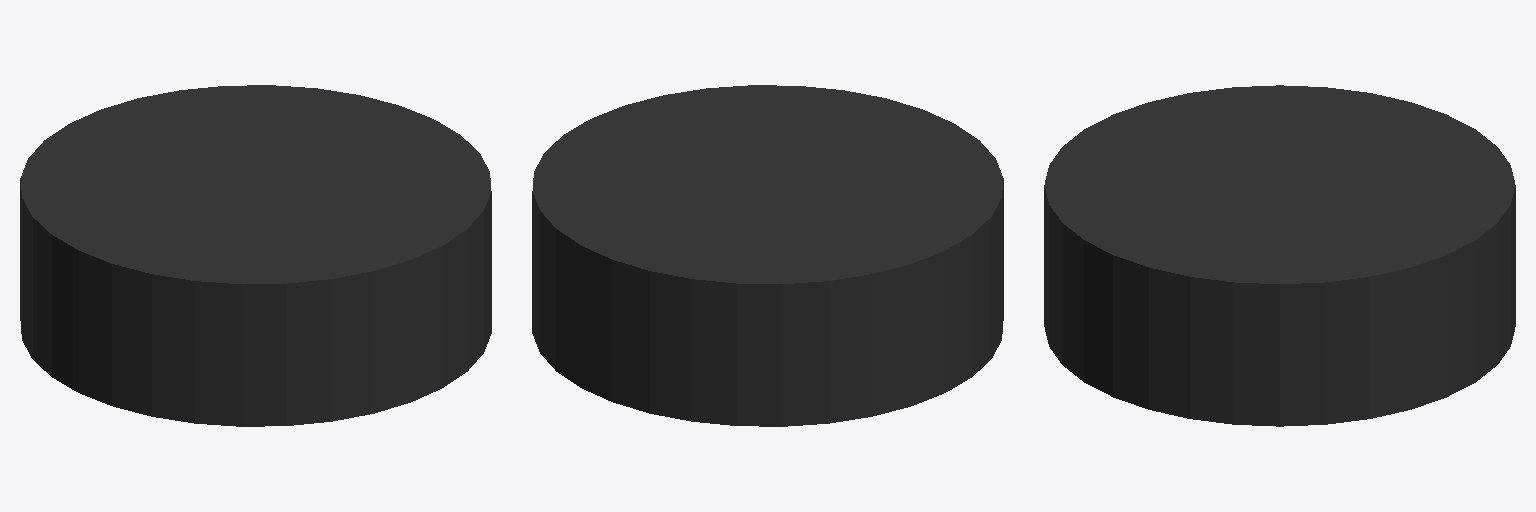
The robot description file, URDF, robot "car_0":
<?xml version="1.0"?>
<robot name="car_0" xmlns:xacro="http://www.ros.org/wiki/xacro">
  <material name="dark_gray">
    <color rgba="0.25 0.25 0.25 1.0"/>
  </material>

  <material name="body_visible_gray">
    <color rgba="0.75 0.75 0.75 1.0"/>
  </material>

  <link name="base_link">
    <inertial>
      <origin xyz="0 0 0.20" rpy="0 0 0"/>
      <mass value="45.0"/>
      <inertia ixx="2.3" ixy="0.0" ixz="0.0" iyy="4.2" iyz="0.0" izz="5.6"/>
    </inertial>
    <visual>
      <!-- NEOS is exported in millimeter-like units; rescale and place mesh so body visually sits on ground. -->
      <origin xyz="0 0 -0.07" rpy="1.5708 0 1.5708"/>
      <geometry>
        <!-- Keep the original Ackermann mesh and native dimensions. -->
        <mesh filename="file:///home/z/workspace_zyz/seb_clean/src/simulator/fake_ugv/meshes/NEOS.dae" scale="0.001 0.001 0.001"/>
      </geometry>
    </visual>
    <collision>
      <origin xyz="0 0 0.32" rpy="0 0 0"/>
      <geometry>
        <box size="0.92 0.62 0.22"/>
      </geometry>
    </collision>
  </link>

  <link name="rear_left_wheel">
    <inertial>
      <origin xyz="0 0 0" rpy="0 0 0"/>
      <mass value="2.0"/>
      <inertia ixx="0.03" ixy="0.0" ixz="0.0" iyy="0.03" iyz="0.0" izz="0.05"/>
    </inertial>
    <collision>
      <origin xyz="0 0 0" rpy="1.5708 0 0"/>
      <geometry>
        <cylinder radius="0.16" length="0.08"/>
      </geometry>
    </collision>
  </link>

  <link name="rear_right_wheel">
    <inertial>
      <origin xyz="0 0 0" rpy="0 0 0"/>
      <mass value="2.0"/>
      <inertia ixx="0.03" ixy="0.0" ixz="0.0" iyy="0.03" iyz="0.0" izz="0.05"/>
    </inertial>
    <collision>
      <origin xyz="0 0 0" rpy="1.5708 0 0"/>
      <geometry>
        <cylinder radius="0.16" length="0.08"/>
      </geometry>
    </collision>
  </link>

  <link name="front_left_steer_link">
    <inertial>
      <origin xyz="0 0 0" rpy="0 0 0"/>
      <mass value="0.3"/>
      <inertia ixx="0.001" ixy="0.0" ixz="0.0" iyy="0.001" iyz="0.0" izz="0.001"/>
    </inertial>
  </link>

  <link name="front_right_steer_link">
    <inertial>
      <origin xyz="0 0 0" rpy="0 0 0"/>
      <mass value="0.3"/>
      <inertia ixx="0.001" ixy="0.0" ixz="0.0" iyy="0.001" iyz="0.0" izz="0.001"/>
    </inertial>
  </link>

  <link name="front_left_wheel">
    <inertial>
      <origin xyz="0 0 0" rpy="0 0 0"/>
      <mass value="2.0"/>
      <inertia ixx="0.03" ixy="0.0" ixz="0.0" iyy="0.03" iyz="0.0" izz="0.05"/>
    </inertial>
    <collision>
      <origin xyz="0 0 0" rpy="1.5708 0 0"/>
      <geometry>
        <cylinder radius="0.16" length="0.08"/>
      </geometry>
    </collision>
  </link>

  <link name="front_right_wheel">
    <inertial>
      <origin xyz="0 0 0" rpy="0 0 0"/>
      <mass value="2.0"/>
      <inertia ixx="0.03" ixy="0.0" ixz="0.0" iyy="0.03" iyz="0.0" izz="0.05"/>
    </inertial>
    <collision>
      <origin xyz="0 0 0" rpy="1.5708 0 0"/>
      <geometry>
        <cylinder radius="0.16" length="0.08"/>
      </geometry>
    </collision>
  </link>

  <joint name="rear_left_wheel_joint" type="continuous">
    <parent link="base_link"/>
    <child link="rear_left_wheel"/>
    <origin xyz="-0.30 0.28 0.16" rpy="0 0 0"/>
    <axis xyz="0 1 0"/>
  </joint>

  <joint name="rear_right_wheel_joint" type="continuous">
    <parent link="base_link"/>
    <child link="rear_right_wheel"/>
    <origin xyz="-0.30 -0.28 0.16" rpy="0 0 0"/>
    <axis xyz="0 1 0"/>
  </joint>

  <joint name="front_left_steering_joint" type="revolute">
    <parent link="base_link"/>
    <child link="front_left_steer_link"/>
    <origin xyz="0.30 0.28 0.16" rpy="0 0 0"/>
    <axis xyz="0 0 1"/>
    <limit lower="-0.65" upper="0.65" effort="120.0" velocity="3.0"/>
    <dynamics damping="2.0"/>
  </joint>

  <joint name="front_right_steering_joint" type="revolute">
    <parent link="base_link"/>
    <child link="front_right_steer_link"/>
    <origin xyz="0.30 -0.28 0.16" rpy="0 0 0"/>
    <axis xyz="0 0 1"/>
    <limit lower="-0.65" upper="0.65" effort="120.0" velocity="3.0"/>
    <dynamics damping="2.0"/>
  </joint>

  <joint name="front_left_wheel_joint" type="continuous">
    <parent link="front_left_steer_link"/>
    <child link="front_left_wheel"/>
    <origin xyz="0 0 0" rpy="0 0 0"/>
    <axis xyz="0 1 0"/>
  </joint>

  <joint name="front_right_wheel_joint" type="continuous">
    <parent link="front_right_steer_link"/>
    <child link="front_right_wheel"/>
    <origin xyz="0 0 0" rpy="0 0 0"/>
    <axis xyz="0 1 0"/>
  </joint>

  <link name="steering_wheel_link">
    <inertial>
      <origin xyz="0 0 0" rpy="0 0 0"/>
      <mass value="0.1"/>
      <inertia ixx="0.0001" ixy="0.0" ixz="0.0" iyy="0.0001" iyz="0.0" izz="0.0001"/>
    </inertial>
  </link>

  <joint name="steering_wheel_joint" type="revolute">
    <parent link="base_link"/>
    <child link="steering_wheel_link"/>
    <origin xyz="0.18 0.0 0.34" rpy="0 0 0"/>
    <axis xyz="0 0 1"/>
    <limit lower="-7.85" upper="7.85" effort="50.0" velocity="10.0"/>
  </joint>

  <link name="lidar_link">
    <inertial>
      <origin xyz="0 0 0" rpy="0 0 0"/>
      <mass value="0.2"/>
      <inertia ixx="0.001" ixy="0.0" ixz="0.0" iyy="0.001" iyz="0.0" izz="0.001"/>
    </inertial>
    <visual>
      <origin xyz="0 0 0" rpy="0 0 0"/>
      <geometry>
        <cylinder radius="0.045" length="0.03"/>
      </geometry>
      <material name="dark_gray"/>
    </visual>
  </link>

  <joint name="lidar_joint" type="fixed">
    <parent link="base_link"/>
    <child link="lidar_link"/>
    <origin xyz="0.12 0.0 0.40" rpy="0 0 0"/>
  </joint>

  <link name="imu_link">
    <inertial>
      <origin xyz="0 0 0" rpy="0 0 0"/>
      <mass value="0.1"/>
      <inertia ixx="0.0002" ixy="0.0" ixz="0.0" iyy="0.0002" iyz="0.0" izz="0.0002"/>
    </inertial>
  </link>

  <joint name="imu_joint" type="fixed">
    <parent link="base_link"/>
    <child link="imu_link"/>
    <origin xyz="0.0 0.0 0.30" rpy="0 0 0"/>
  </joint>

  <gazebo>
    <plugin name="ackermann_drive" filename="libgazebo_ros_ackermann_drive.so">
      <ros>
        <namespace>/car_0</namespace>
        <remapping>cmd_vel:=teleop_cmd_vel</remapping>
        <remapping>odom:=wheel_odom</remapping>
      </ros>
      <update_rate>100.0</update_rate>

      <front_left_joint>front_left_wheel_joint</front_left_joint>
      <front_right_joint>front_right_wheel_joint</front_right_joint>
      <rear_left_joint>rear_left_wheel_joint</rear_left_joint>
      <rear_right_joint>rear_right_wheel_joint</rear_right_joint>
      <left_steering_joint>front_left_steering_joint</left_steering_joint>
      <right_steering_joint>front_right_steering_joint</right_steering_joint>
      <steering_wheel_joint>steering_wheel_joint</steering_wheel_joint>

      <max_steer>0.58</max_steer>
      <max_steering_angle>7.85</max_steering_angle>
      <max_speed>6.0</max_speed>
      <max_linear_acceleration>4.0</max_linear_acceleration>
      <max_linear_deceleration>6.0</max_linear_deceleration>

      <left_steering_pid_gain>1500 0 1</left_steering_pid_gain>
      <left_steering_i_range>0 0</left_steering_i_range>
      <right_steering_pid_gain>1500 0 1</right_steering_pid_gain>
      <right_steering_i_range>0 0</right_steering_i_range>
      <linear_velocity_pid_gain>200 0.0 0.0</linear_velocity_pid_gain>
      <linear_velocity_i_range>0 0</linear_velocity_i_range>

      <publish_odom>true</publish_odom>
      <publish_odom_tf>false</publish_odom_tf>
      <publish_wheel_tf>false</publish_wheel_tf>
      <odometry_frame>map</odometry_frame>
      <robot_base_frame>base_link</robot_base_frame>
    </plugin>
  </gazebo>

  <gazebo reference="rear_left_wheel">
    <mu1>1.2</mu1>
    <mu2>1.2</mu2>
    <kp>100000.0</kp>
    <kd>1.0</kd>
  </gazebo>

  <gazebo reference="rear_right_wheel">
    <mu1>1.2</mu1>
    <mu2>1.2</mu2>
    <kp>100000.0</kp>
    <kd>1.0</kd>
  </gazebo>

  <gazebo reference="front_left_wheel">
    <mu1>1.1</mu1>
    <mu2>1.1</mu2>
    <kp>100000.0</kp>
    <kd>1.0</kd>
  </gazebo>

  <gazebo reference="front_right_wheel">
    <mu1>1.1</mu1>
    <mu2>1.1</mu2>
    <kp>100000.0</kp>
    <kd>1.0</kd>
  </gazebo>

  <gazebo reference="lidar_link">
    <sensor name="sim_lidar" type="gpu_ray">
      <always_on>true</always_on>
      <visualize>false</visualize>
      <update_rate>10.0</update_rate>
      <ray>
        <scan>
          <horizontal>
            <samples>720</samples>
            <resolution>1</resolution>
            <min_angle>-3.14159</min_angle>
            <max_angle>3.14159</max_angle>
          </horizontal>
          <vertical>
            <samples>16</samples>
            <resolution>1</resolution>
            <min_angle>-0.26</min_angle>
            <max_angle>0.26</max_angle>
          </vertical>
        </scan>
        <range>
          <min>0.80</min>
          <max>40.0</max>
          <resolution>0.02</resolution>
        </range>
        <noise>
          <type>gaussian</type>
          <mean>0.0</mean>
          <stddev>0.01</stddev>
        </noise>
      </ray>
      <plugin name="lidar_pointcloud_plugin" filename="libgazebo_ros_ray_sensor.so">
        <ros>
          <remapping>~/out:=/livox/lidar</remapping>
        </ros>
        <output_type>sensor_msgs/PointCloud2</output_type>
        <frame_name>lidar_link</frame_name>
      </plugin>
    </sensor>
  </gazebo>

  <gazebo reference="imu_link">
    <sensor name="sim_imu" type="imu">
      <always_on>true</always_on>
      <visualize>false</visualize>
      <update_rate>200.0</update_rate>
      <plugin name="imu_plugin" filename="libgazebo_ros_imu_sensor.so">
        <ros>
          <remapping>~/out:=/livox/imu</remapping>
        </ros>
        <frame_name>imu_link</frame_name>
      </plugin>
    </sensor>
  </gazebo>
</robot>

--- What the picture shows (computed from the rendered views, not written in the file) ---
The picture shows the robot from 3 angles, left to right: view 1: azimuth 30°, elevation 25°; view 2: azimuth 150°, elevation 25°; view 3: azimuth 270°, elevation 25°; orthographic projection.
Model car_0 with 10 links and 9 joints (3 revolute, 4 continuous, 2 fixed), rooted at base_link, posed all joints at 0.
Visible links, largest first — view 1: lidar_link; view 2: lidar_link; view 3: lidar_link.
Boxes of the visible links, <box> form: lidar_link: <box>20,85,491,426</box>; lidar_link: <box>532,85,1003,426</box>; lidar_link: <box>1044,85,1515,426</box>.
Bounding box of the posed robot: 0.09 × 0.09 × 0.03 m (x, y, z).
Geometry: only primitive shapes (box / cylinder / sphere) drawn; not drawn: 1 mesh visual (reference in a form the renderer does not follow).
